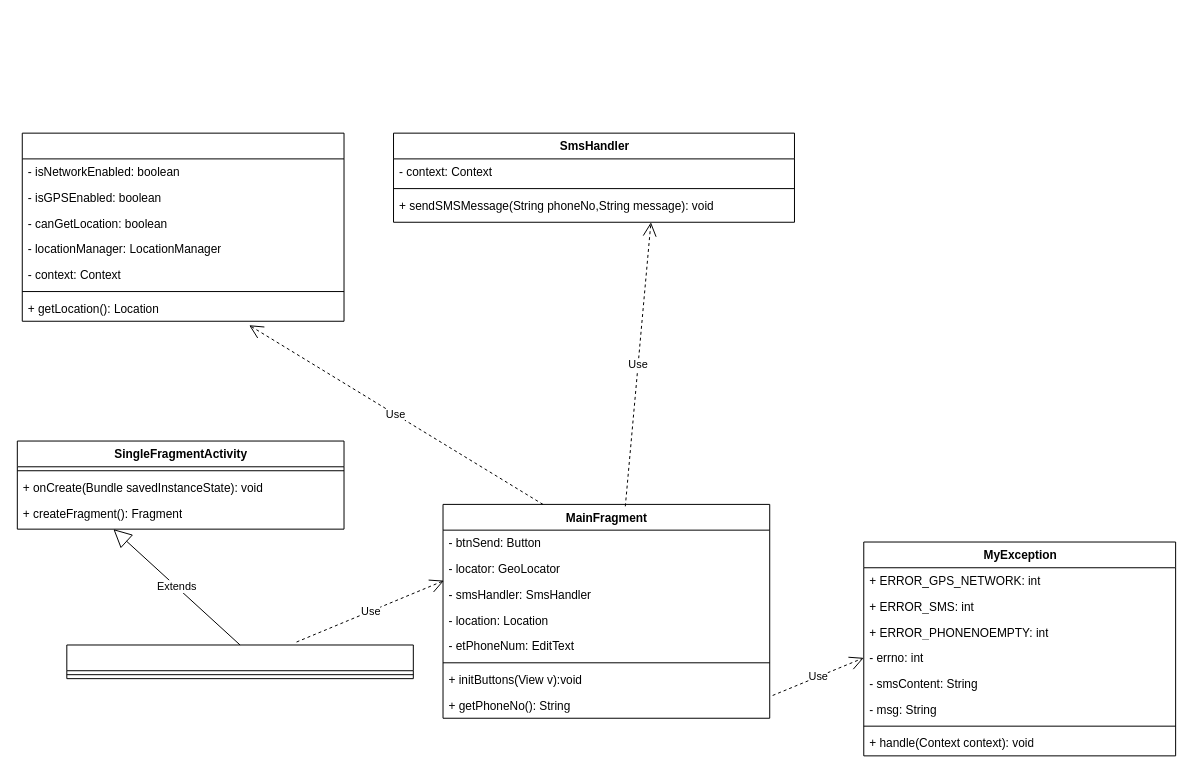
The diagram is 1193 pixels wide and 776 high, and some of its shapes have lost their labels. The shapes that lost their labels are listed below. From the top down, each one's box as (x1, y1, x2, y2) in pixels, then its label:
(21, 132, 344, 321): GeoLocator
(66, 644, 413, 679): MainActivity
